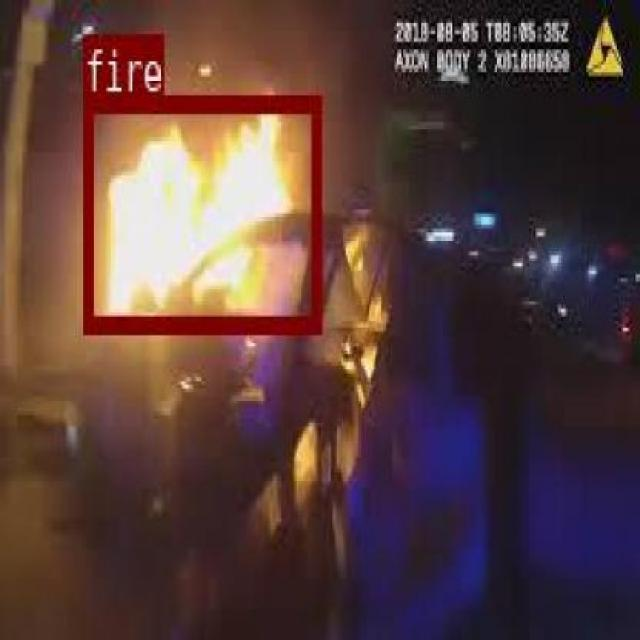Fire: (201, 211, 237, 236)
